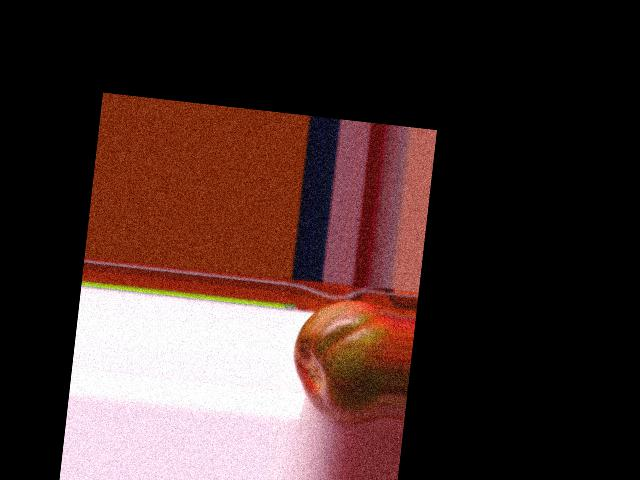tomato: (286, 294, 394, 425)
